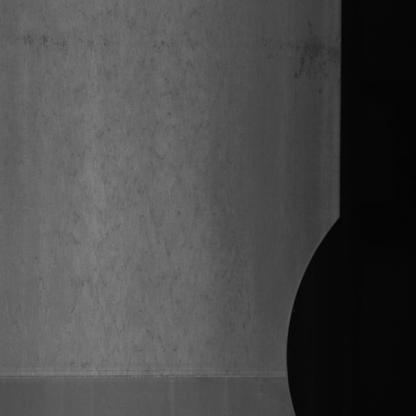crescent_gap: (272, 198, 351, 416)
welding_line: (2, 360, 305, 395)
